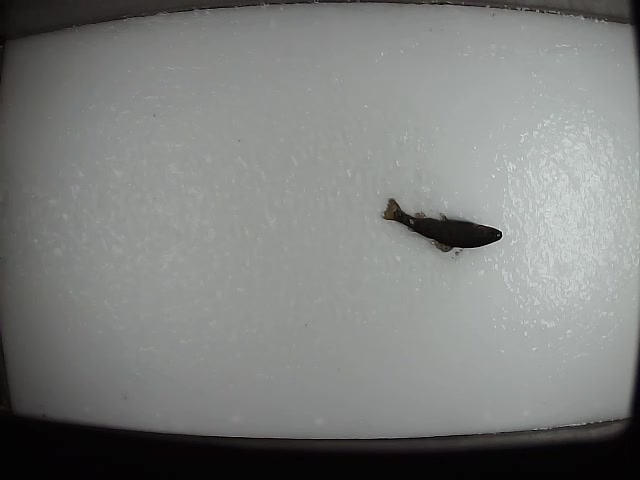Fish: (382, 197, 502, 252)
